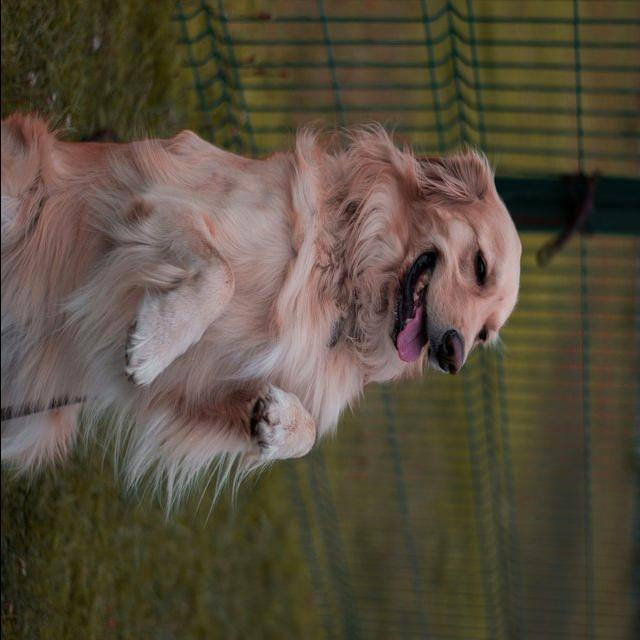retriever: (2, 110, 524, 524)
